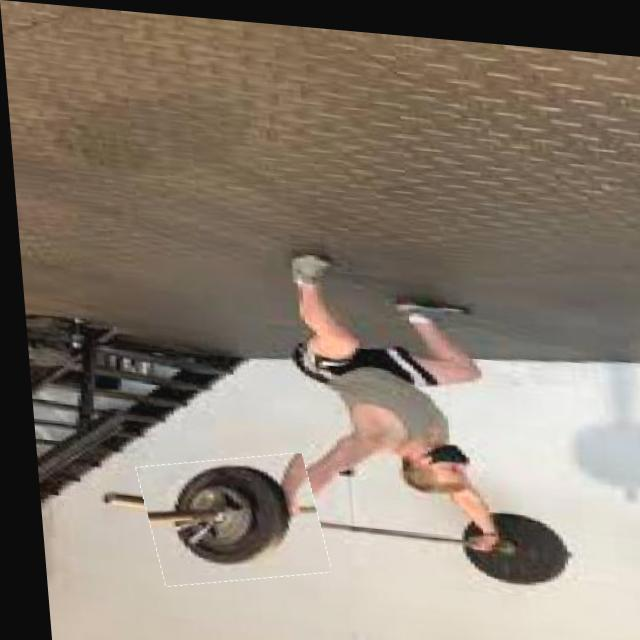barbell: (131, 445, 320, 589)
